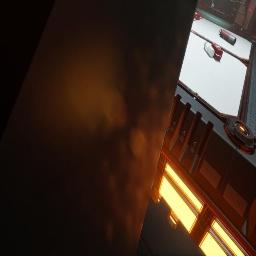0: (204, 42, 215, 57)
EmergencyPhone ,: (157, 129, 168, 169)
FireAlarm ,: (248, 5, 253, 12)
FireExtinguisher ]: (191, 30, 196, 35)
FirstAidBox ,: (211, 43, 223, 61), (194, 10, 201, 20)
NitrogenTank ,: (219, 29, 236, 46)
